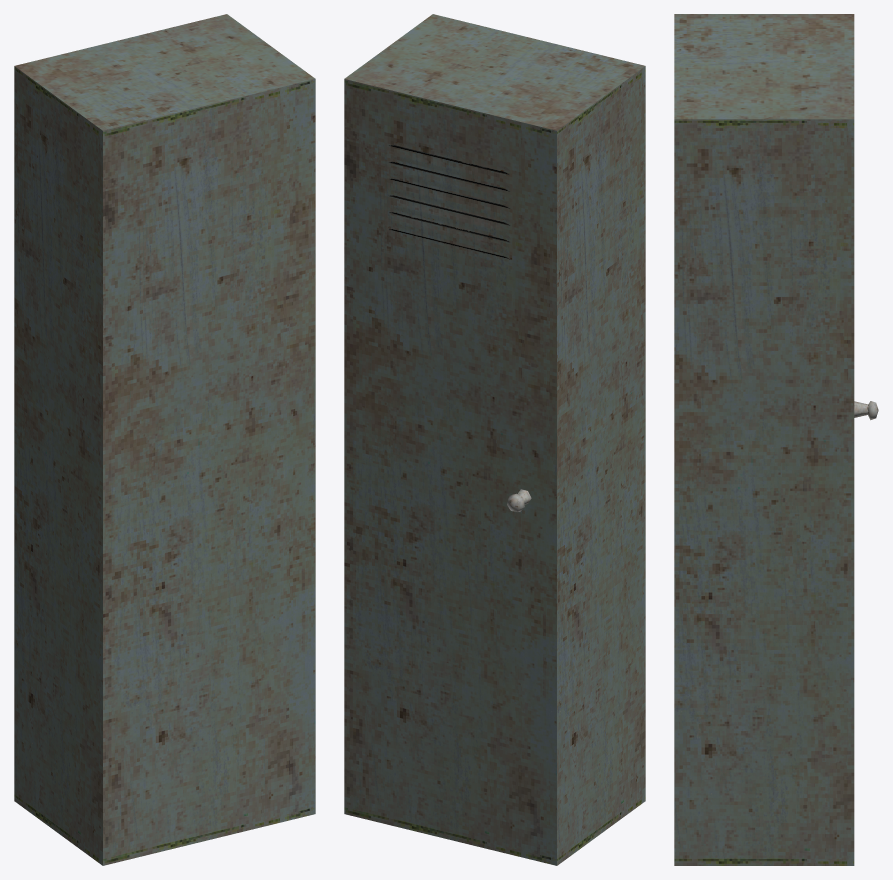
File: _Locker_1.FBX
3 views of the same model, side by side, from view 1: azimuth 30°, elevation 25°; view 2: azimuth 150°, elevation 25°; view 3: azimuth 270°, elevation 25° (orthographic).
Parts seen in each view (by area): view 1: Locker_1; view 2: Locker_1; view 3: Locker_1.
Part boxes in pixels (x1,y1,x2,y2): Locker_1: [14, 14, 315, 865]; Locker_1: [344, 14, 645, 865]; Locker_1: [674, 14, 878, 865].
Size of the model in its own units: 50 by 165 by 40.94.
Materials: 3 (3 with a texture image).
